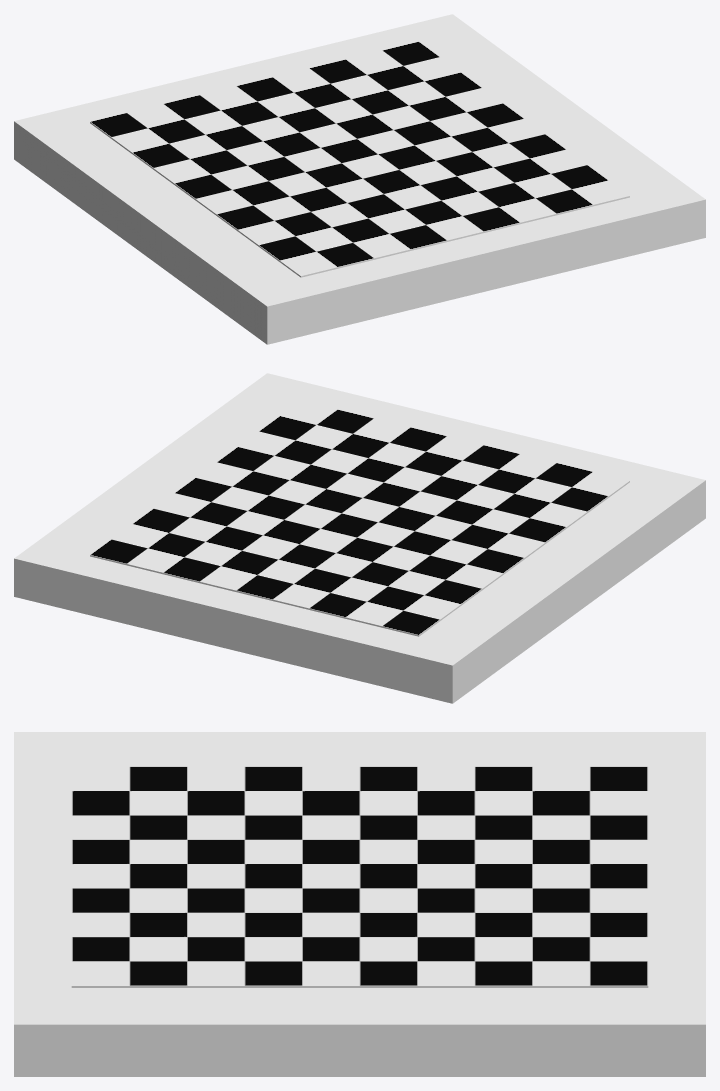
File: calibration.obj
3 renders of one model, top to bottom at view 1: azimuth 30°, elevation 25°; view 2: azimuth 150°, elevation 25°; view 3: azimuth 270°, elevation 25°, orthographic. The views are drawn at different scales.
Parts seen in each view (by area): view 1: Cube_Cube.021; view 2: Cube_Cube.021; view 3: Cube_Cube.021.
Part boxes in pixels (x1,y1,x2,y2): Cube_Cube.021: [14, 14, 705, 344]; Cube_Cube.021: [14, 373, 705, 703]; Cube_Cube.021: [14, 732, 705, 1076].
Bounding box in the file's own units: 0.3 × 0.026 × 0.3.
